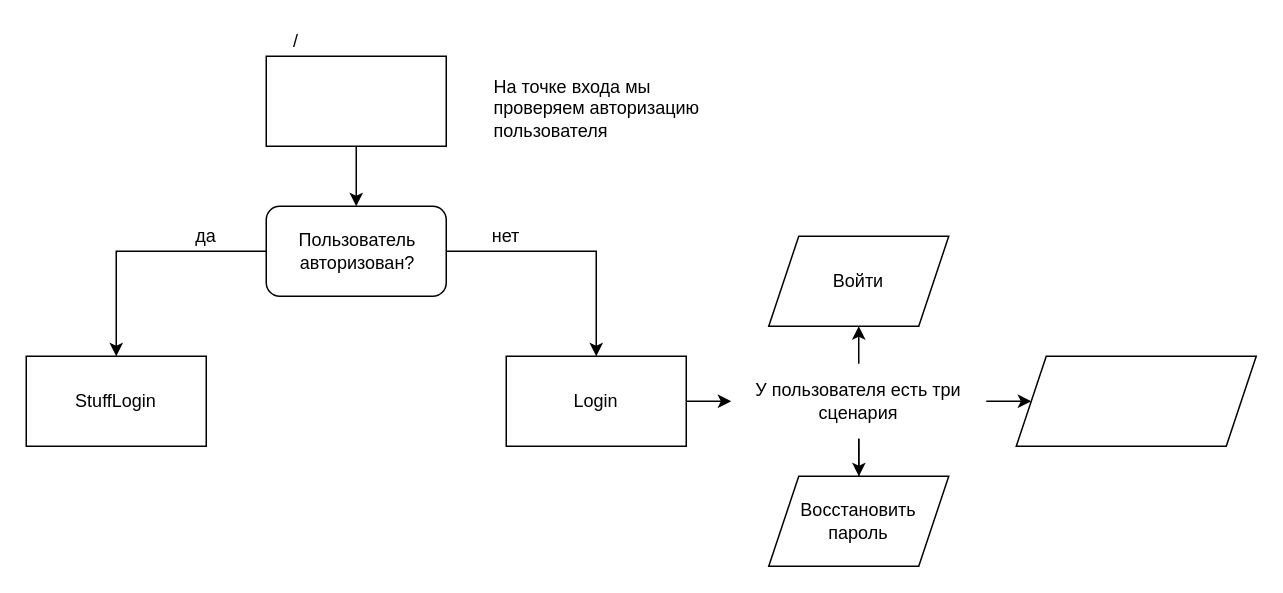
The diagram is 1283 pixels wide and 593 high, and some of its shapes have lost their labels. Each missing label, with the centre of its shape:
"APP" goes at [355,100].
"Зарегистрироваться" goes at [1135,400].
